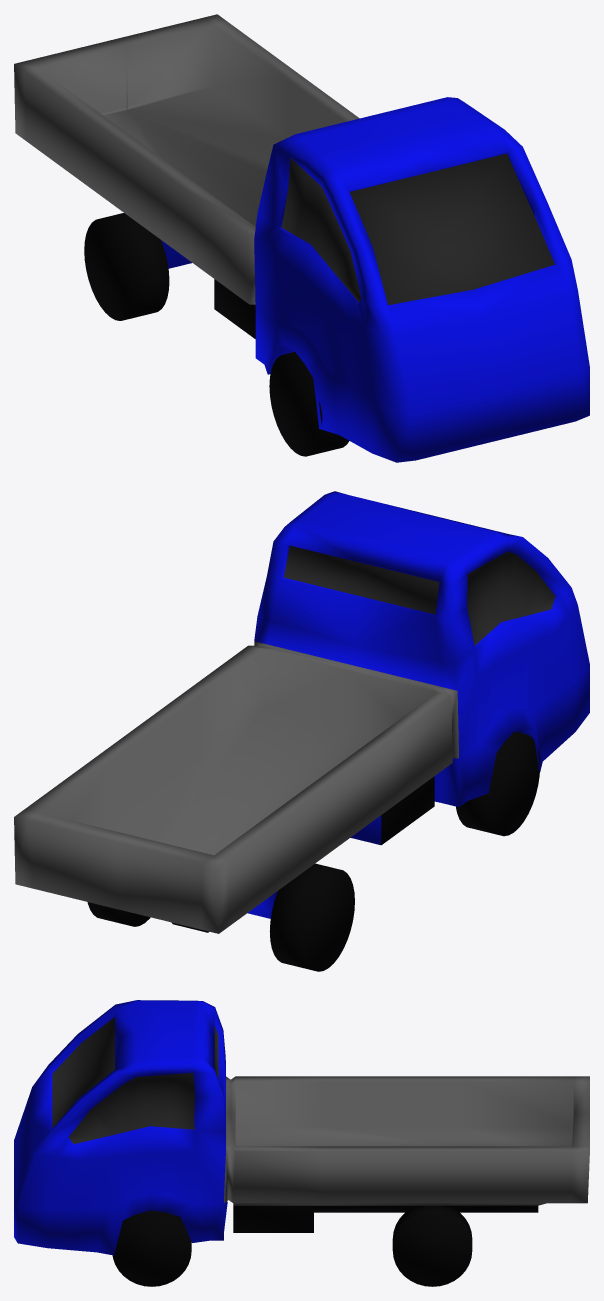
Rendered from truck1_with_windows.glb.
3 views of the same model, one above another, from view 1: azimuth 30°, elevation 25°; view 2: azimuth 150°, elevation 25°; view 3: azimuth 270°, elevation 25° (orthographic). The views are drawn at different scales.
Visible parts, largest first — view 1: Cube; view 2: Cube; view 3: Cube.
Part boxes in pixels (x1,y1,x2,y2): Cube: [14, 14, 589, 462]; Cube: [14, 491, 589, 971]; Cube: [14, 1000, 589, 1286].
Bounding box in the file's own units: 0.2258 × 0.2797 × 0.6724.
